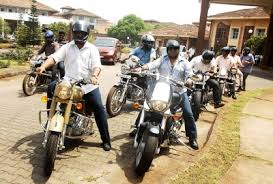helmet: (71, 22, 90, 47)
